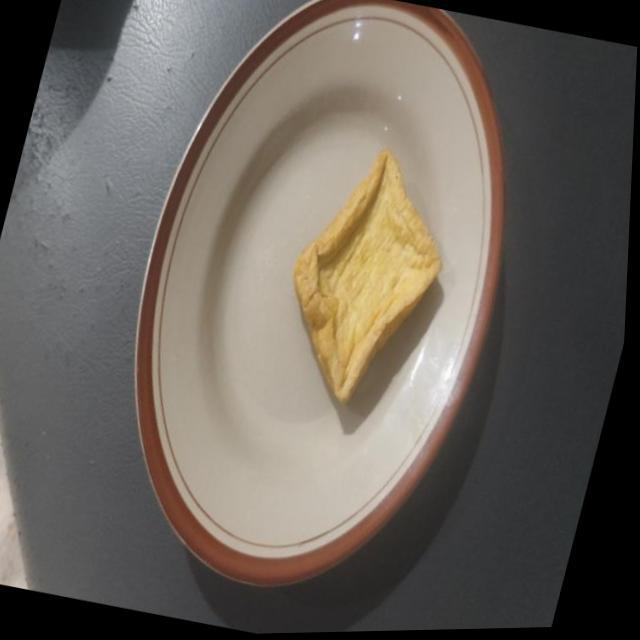tahu_goreng: (294, 149, 441, 402)
